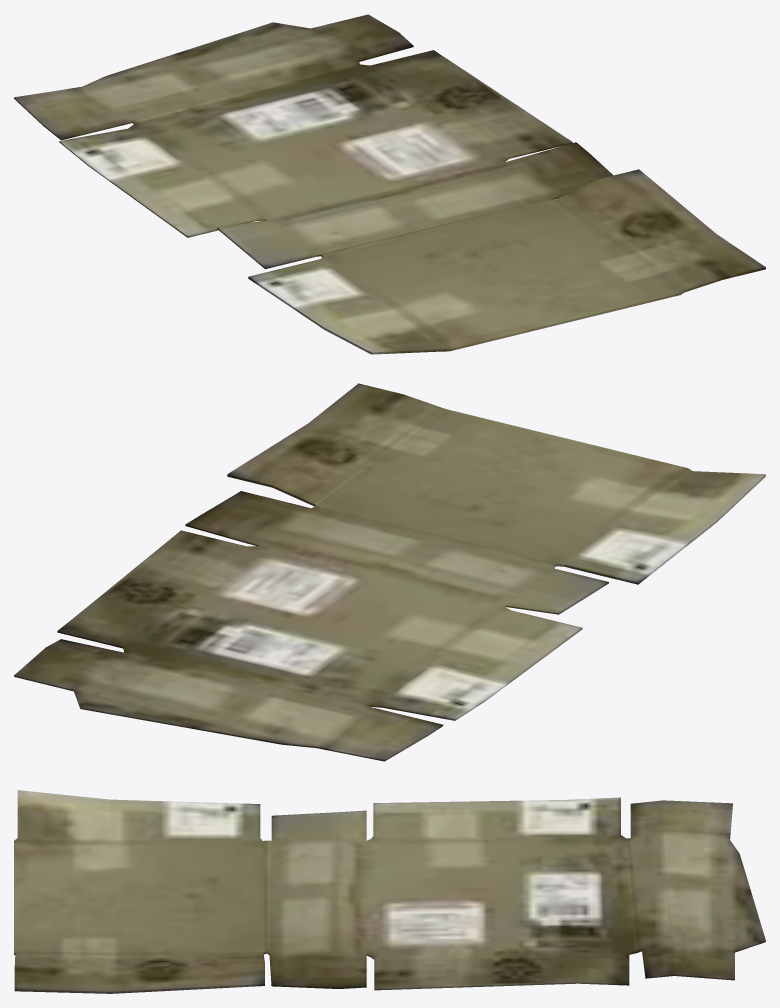
File: garbage_carboard001a.glb
3 views of the same model, one above another, from view 1: azimuth 30°, elevation 25°; view 2: azimuth 150°, elevation 25°; view 3: azimuth 270°, elevation 25° (orthographic). The views are drawn at different scales.
Parts seen in each view (by area): view 1: 0_garbage003a_01; view 2: 0_garbage003a_01; view 3: 0_garbage003a_01.
Boxes of the visible parts, box(x1,y1,x2,y2) form: 0_garbage003a_01: box(14, 14, 765, 354); 0_garbage003a_01: box(14, 383, 765, 761); 0_garbage003a_01: box(14, 790, 765, 993).
Bounding box in the file's own units: 0.9211 × 0.0375 × 1.52.
Materials: 1 (1 with a texture image).
